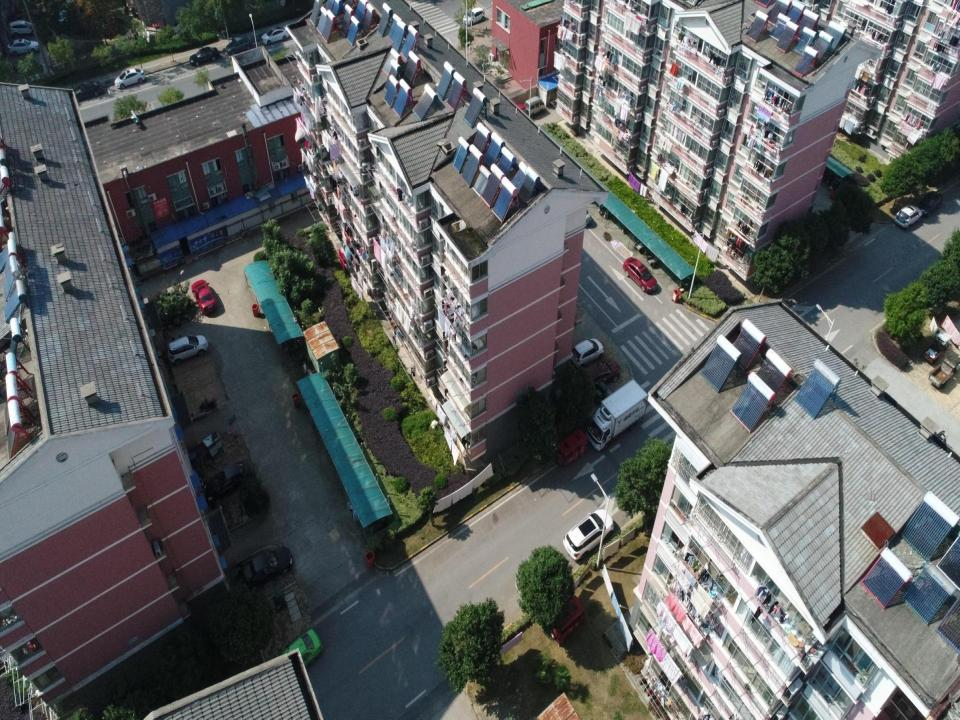car: (236, 545, 293, 592), (563, 509, 614, 560), (273, 628, 323, 678), (204, 461, 248, 505), (622, 256, 657, 292), (168, 334, 208, 365), (582, 358, 620, 387), (569, 338, 605, 367), (191, 279, 218, 314), (70, 81, 103, 104), (894, 204, 922, 230), (916, 190, 943, 216), (114, 68, 146, 89), (7, 38, 40, 56), (6, 19, 36, 38), (189, 47, 218, 66), (261, 26, 289, 45), (226, 35, 252, 55), (573, 202, 591, 229), (463, 7, 485, 26)
truck: (586, 379, 648, 452), (928, 350, 959, 389), (921, 332, 951, 363)
van: (524, 96, 546, 118)
